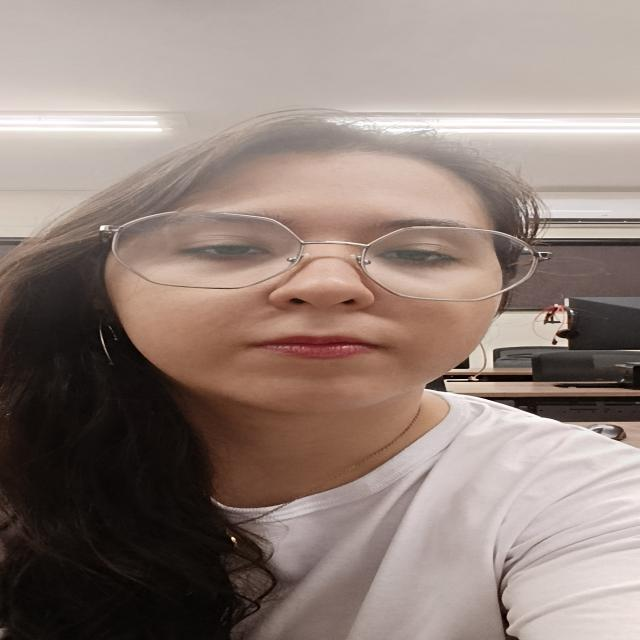sem_oculos: (100, 212, 549, 302)
